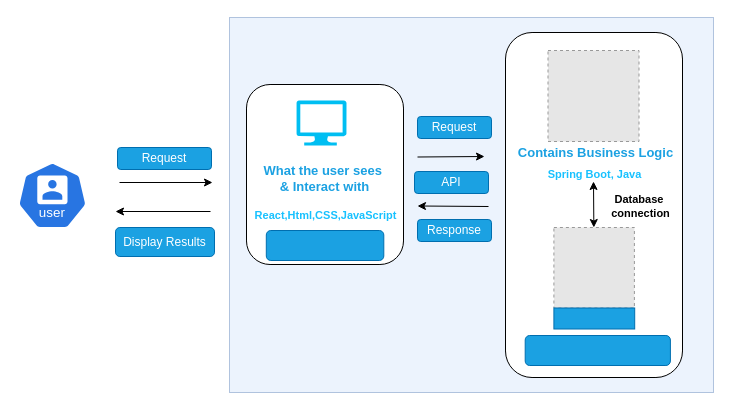
The diagram is 731 pixels wide and 410 high, and some of its shapes have lost their labels. Grey dashed boxes stand in for pictures. The shapes that lost their labels are listed below. From the top down, each one's centre as x and y in pixels, then its label:
(324,245): Front end
(594,318): Database
(597,350): Back end
